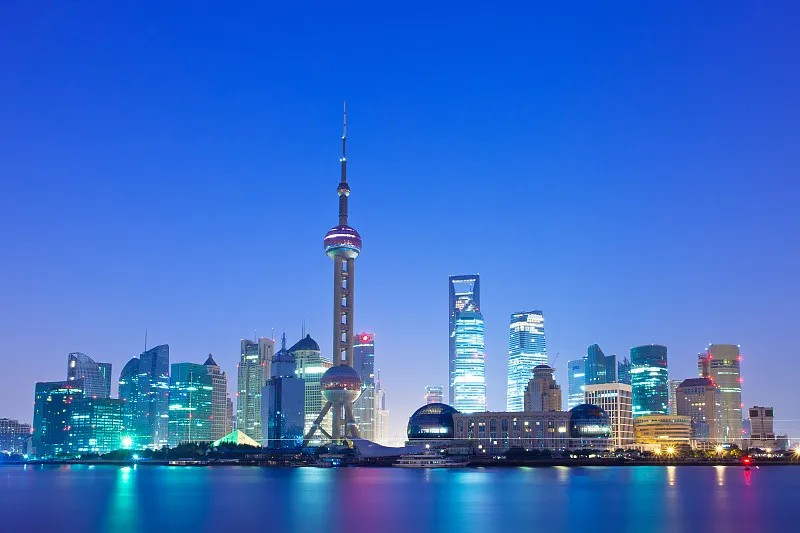Oriental: (303, 98, 362, 446)
